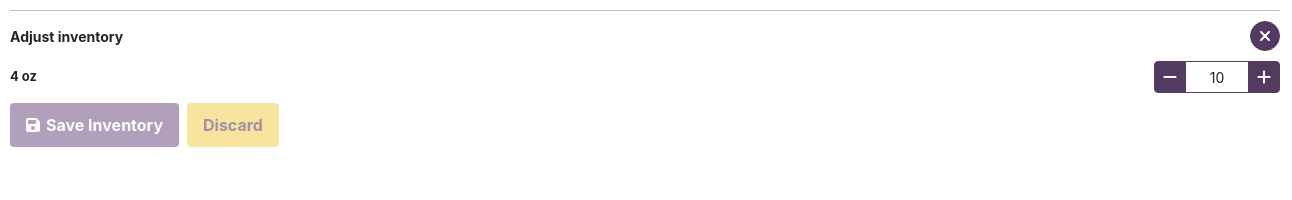
admin preview product inventory editor › reports and refreshes the preview when a conflicted product was removed
Replace the text in the field named "4 oz Saffron Maple Syrup stock" with "12" at point(1217, 77), box [1186,61,1248,93]
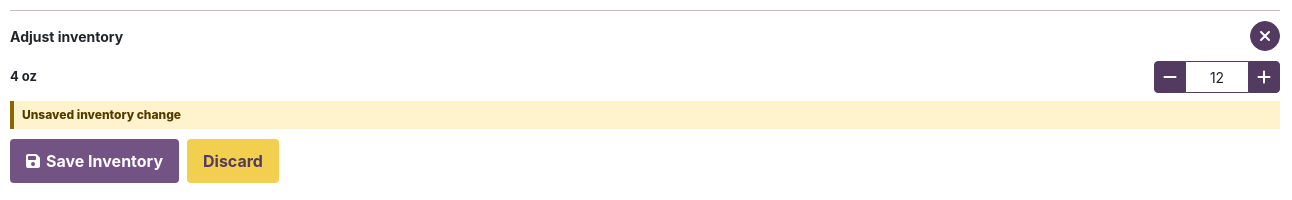
Click the button "Save Inventory" at point(94, 161), box [10,139,179,183]
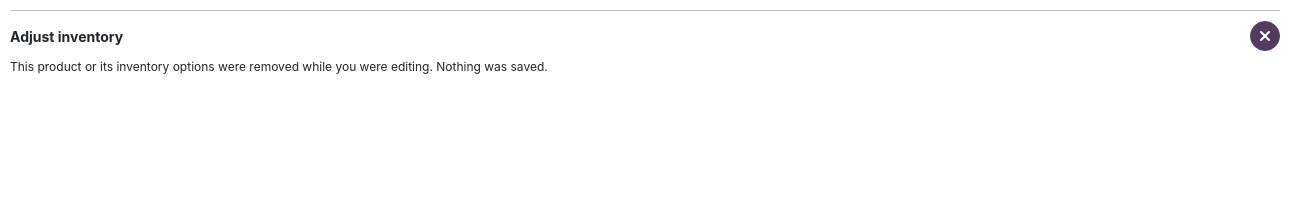
expect the text "product or its inventory options were removed" is shown: met, box [10,59,548,74]
